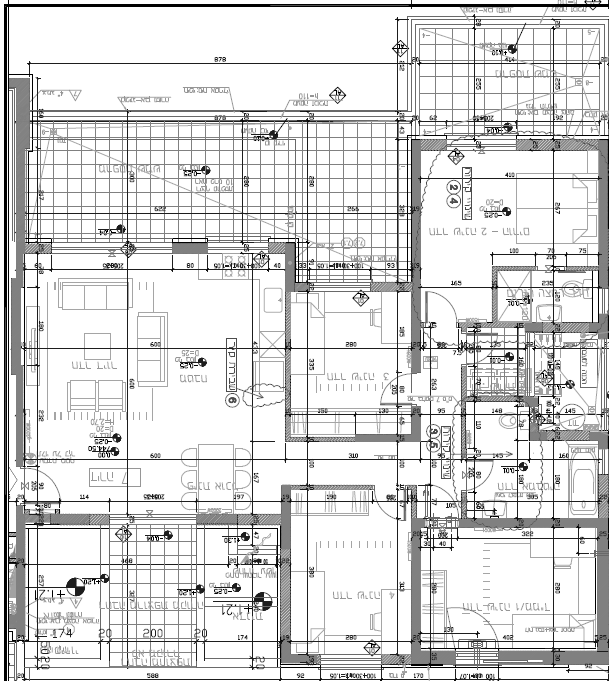wall: (15, 77, 29, 257), (596, 138, 609, 264)
window: (47, 239, 179, 257), (91, 510, 223, 528), (200, 238, 279, 258), (300, 275, 379, 295), (441, 135, 520, 155), (595, 332, 609, 436), (308, 652, 383, 670), (451, 643, 502, 668), (595, 280, 609, 320), (595, 443, 609, 483)
